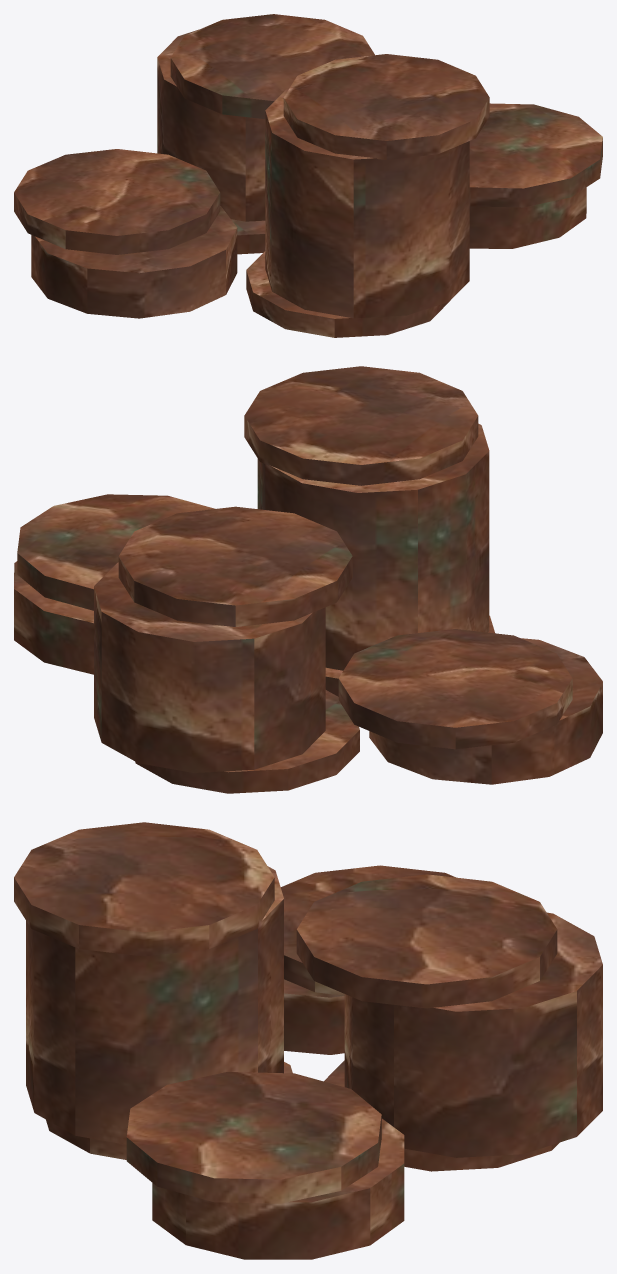
The model's file is tr_coins.glb.
3 views of the same model, one above another, from view 1: azimuth 30°, elevation 25°; view 2: azimuth 150°, elevation 25°; view 3: azimuth 270°, elevation 25° (orthographic). The views are drawn at different scales.
Parts seen in each view (by area): view 1: model; view 2: model; view 3: model.
Boxes of the visible parts, x1,y1,x2,y2 form: model: (14,14,602,337); model: (14,366,602,793); model: (14,822,602,1259).
Size of the model in its own units: 0.2567 by 0.0955 by 0.2005.
Materials: 1 (1 with a texture image).
